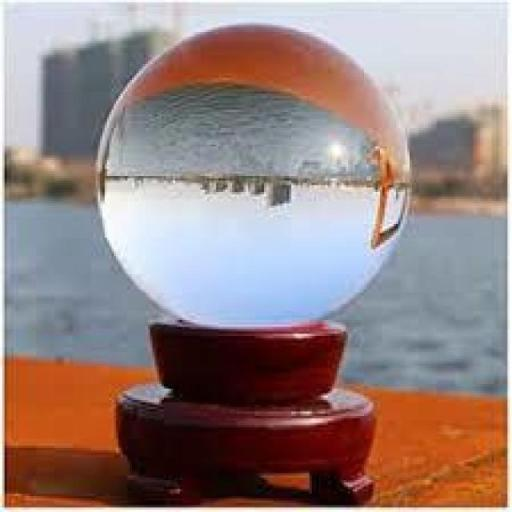glass: (86, 8, 427, 353)
